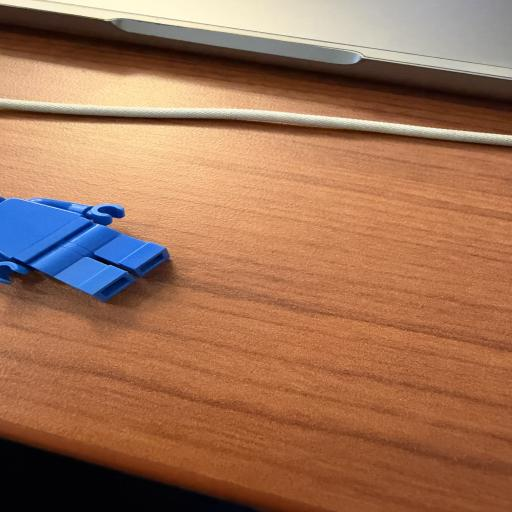blue_minifig: (0, 196, 172, 304)
